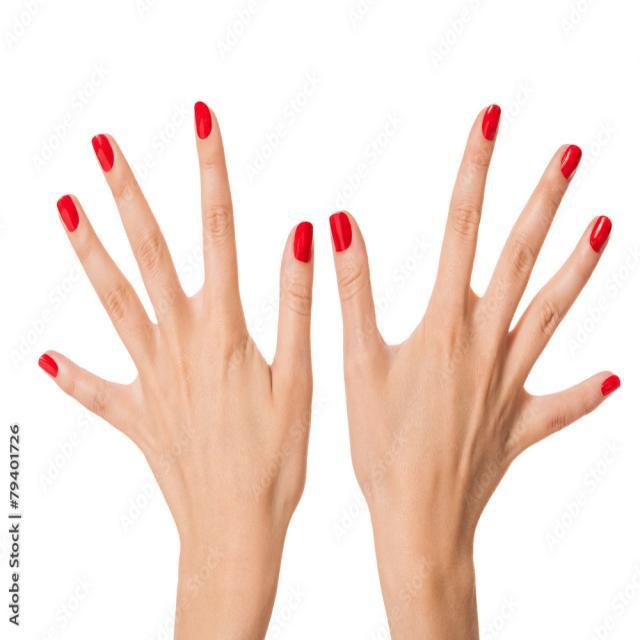Fingernail: (330, 211, 350, 254), (57, 195, 80, 231), (294, 223, 315, 261), (92, 135, 113, 172), (194, 101, 212, 139), (591, 219, 613, 249), (561, 148, 582, 179), (485, 104, 501, 140), (38, 355, 60, 380), (602, 375, 620, 396)
